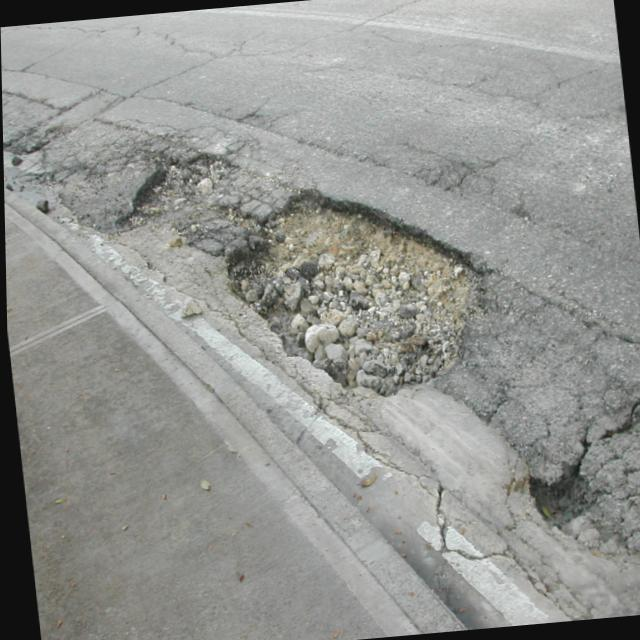Pothole: (225, 194, 472, 394), (119, 152, 241, 230), (530, 466, 598, 538)
